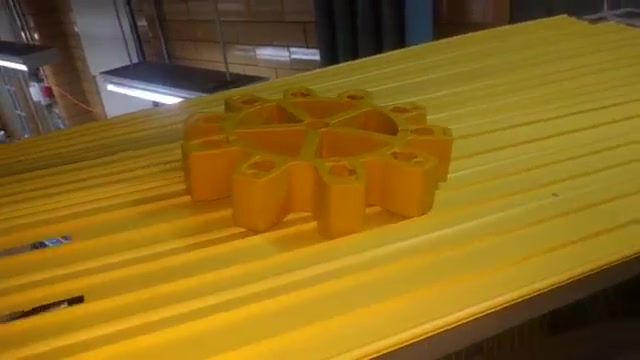gear: (161, 77, 466, 244)
